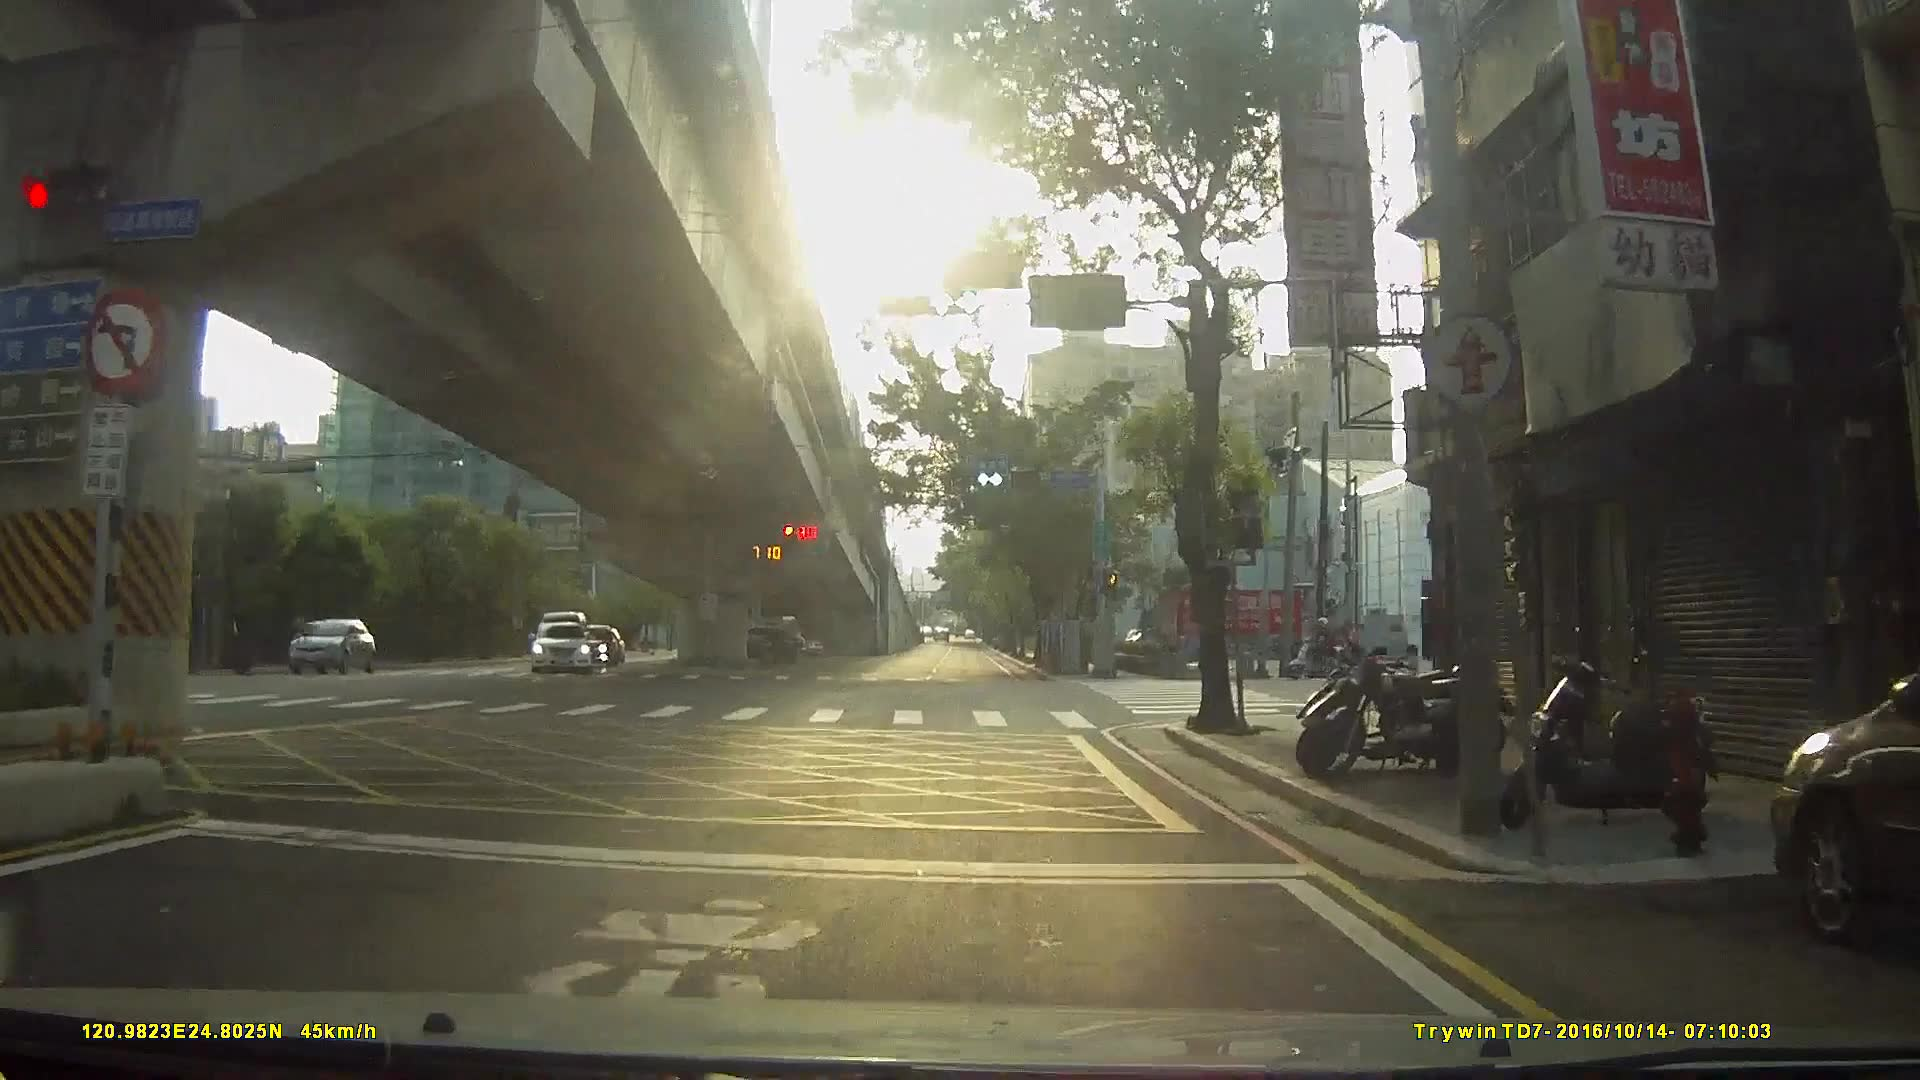rider: (1285, 613, 1353, 681)
vehicle: (1765, 660, 1920, 961), (276, 615, 368, 676), (523, 617, 591, 672), (721, 621, 799, 666), (568, 624, 618, 668)
